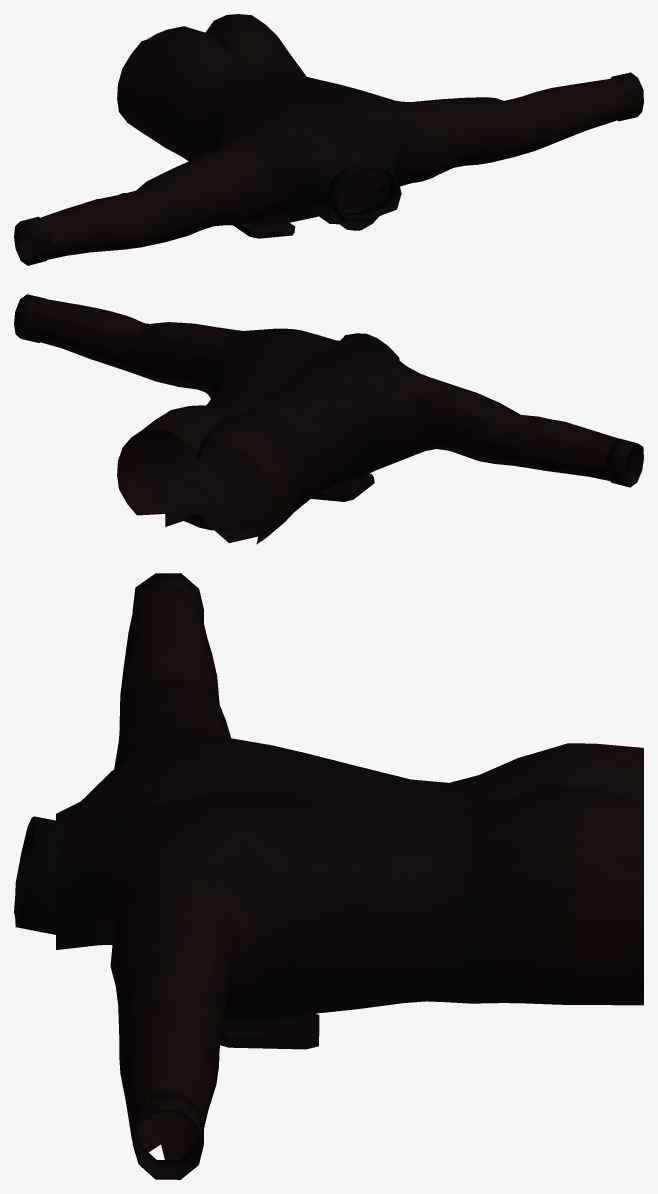
Rendered from work_jacket.glb.
3 renders of one model, top to bottom at view 1: azimuth 30°, elevation 25°; view 2: azimuth 150°, elevation 25°; view 3: azimuth 270°, elevation 25°, orthographic. The views are drawn at different scales.
Parts seen in each view (by area): view 1: work_jacket_ground; view 2: work_jacket_ground; view 3: work_jacket_ground.
Boxes of the visible parts, x1,y1,x2,y2 form: work_jacket_ground: (14,14,643,265); work_jacket_ground: (14,294,643,544); work_jacket_ground: (14,573,643,1179).
Size of the model in its own units: 1.48 by 0.3 by 0.7343.
1 material, 1 textured.
